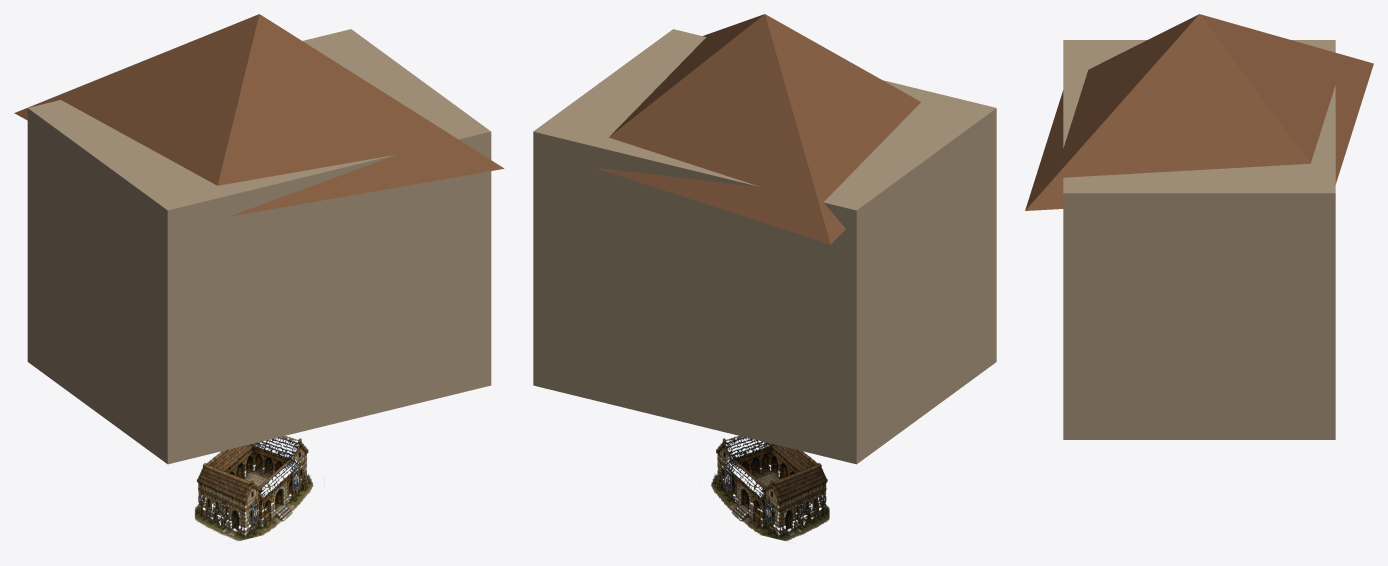
File: caserma_ii.glb
3 renders of one model, left to right at view 1: azimuth 30°, elevation 25°; view 2: azimuth 150°, elevation 25°; view 3: azimuth 270°, elevation 25°, orthographic. The views are drawn at different scales.
Visible parts, largest first — view 1: Body, Roof, CatalogTexture; view 2: Body, Roof, CatalogTexture; view 3: Body, Roof.
Boxes of the visible parts, <box> form: Body: <box>27,29,491,464</box>; Roof: <box>14,14,504,216</box>; CatalogTexture: <box>194,436,313,540</box>; Body: <box>533,29,996,464</box>; Roof: <box>595,14,920,244</box>; CatalogTexture: <box>711,436,829,541</box>; Body: <box>1063,40,1335,439</box>; Roof: <box>1025,14,1373,210</box>.
Bounding box in the file's own units: 2 × 3.09 × 1.92.
Materials: 3 (1 with a texture image).
